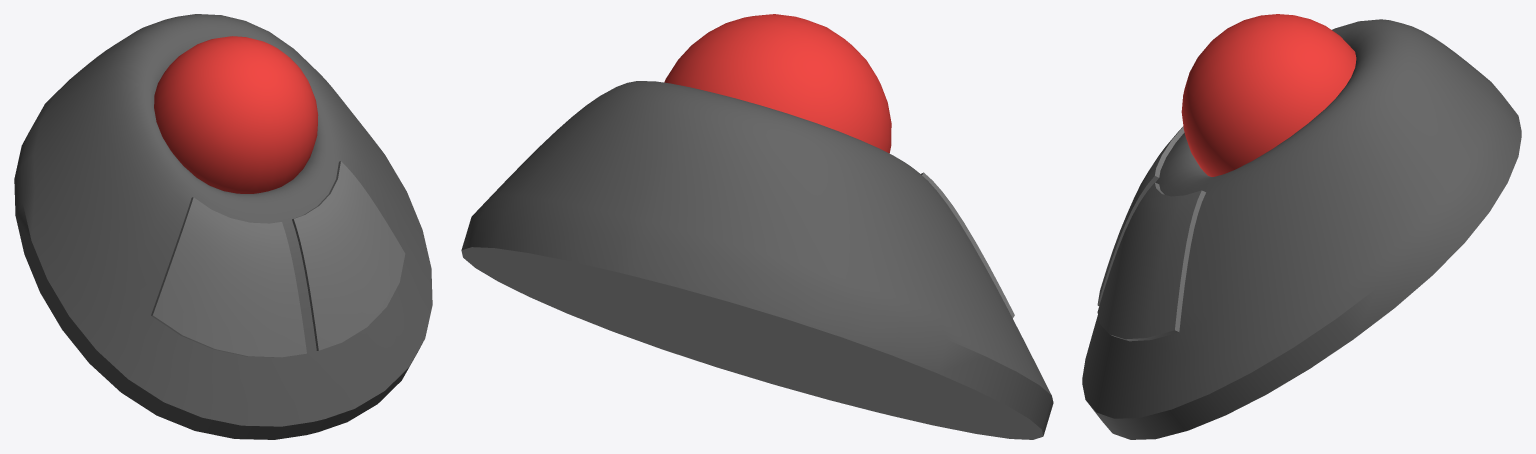
Rendered from trackball.glb.
3 views of the same model, side by side, from view 1: azimuth 30°, elevation 25°; view 2: azimuth 150°, elevation 25°; view 3: azimuth 270°, elevation 25° (orthographic). The views are drawn at different scales.
Visible parts, largest first — view 1: Cube.930; view 2: Cube.930; view 3: Cube.930.
Boxes of the visible parts, x1,y1,x2,y2 form: Cube.930: [14, 14, 432, 439]; Cube.930: [461, 14, 1053, 439]; Cube.930: [1082, 14, 1521, 439].
Size of the model in its own units: 2.29 by 2.02 by 2.12.
Materials: 1 (1 with a texture image).
